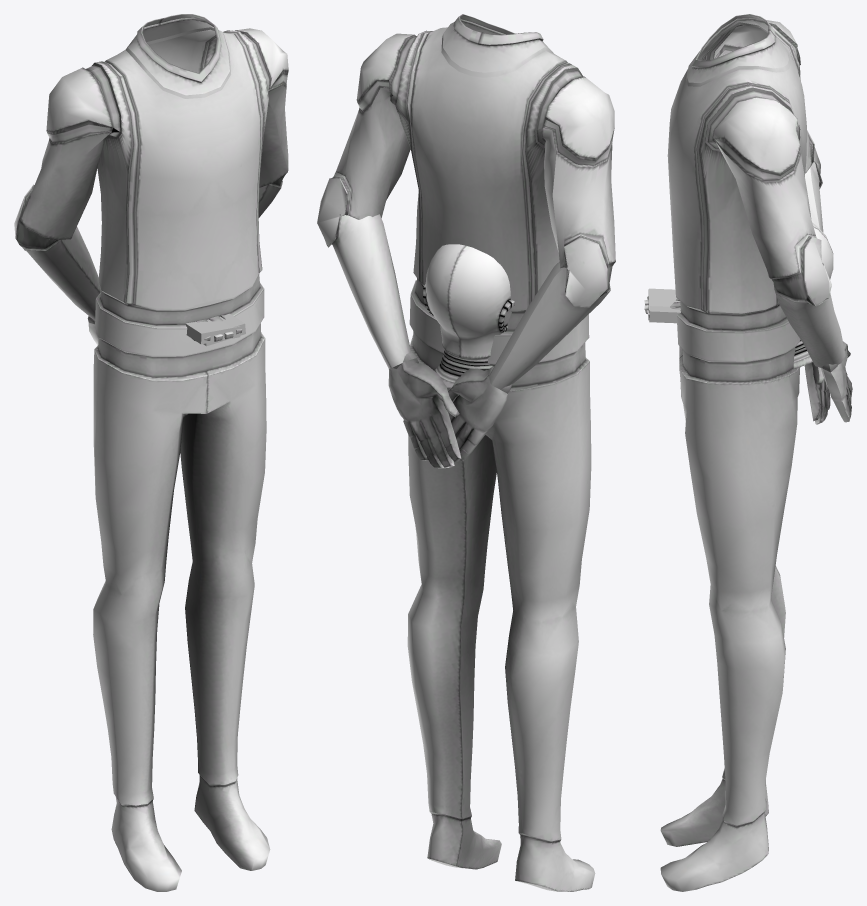
The model's file is x-series-m02.obj.
The picture shows the model from 3 angles, left to right: view 1: azimuth 30°, elevation 25°; view 2: azimuth 150°, elevation 25°; view 3: azimuth 270°, elevation 25°; orthographic projection. The views are drawn at different scales.
Visible parts, largest first — view 1: Body, BodyGlow, HandLeftCol; view 2: Body, Head, BodyGlow, HeadGlow; view 3: Body, BodyGlow, Head, HandLeftCol, HandRightCol.
Boxes of the visible parts, box(x1,y1,x2,y2) form: Body: box(14, 14, 288, 891); BodyGlow: box(16, 32, 285, 377); HandLeftCol: box(185, 320, 240, 344); Body: box(317, 14, 615, 891); Head: box(425, 244, 510, 390); BodyGlow: box(331, 32, 613, 387); HeadGlow: box(423, 284, 514, 380); Body: box(660, 14, 852, 891); BodyGlow: box(680, 27, 822, 381); Head: box(793, 223, 833, 368); HandLeftCol: box(648, 288, 679, 320); HandRightCol: box(649, 306, 680, 323).
Bounding box in the file's own units: 0.5424 × 1.59 × 0.3598.
3 materials, 2 textured.
